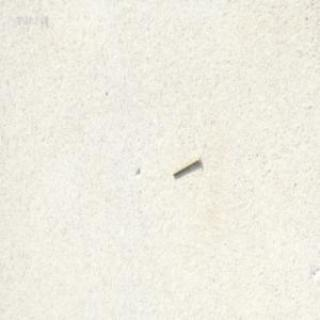Bolttrack_idkeyframe: (171, 154, 200, 177)
